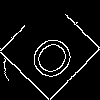O: (25, 25, 86, 85)
